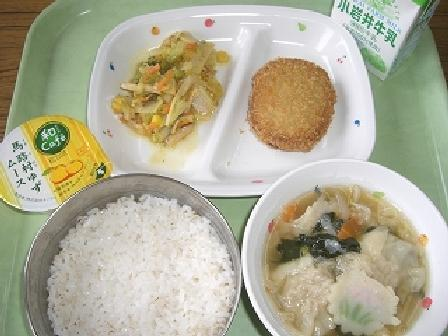Milk: (322, 0, 436, 65)
Rice: (40, 160, 247, 330)
Soups: (251, 168, 447, 334)
cutlet: (241, 60, 343, 157)
vegetable based cooked food: (113, 25, 227, 140)
